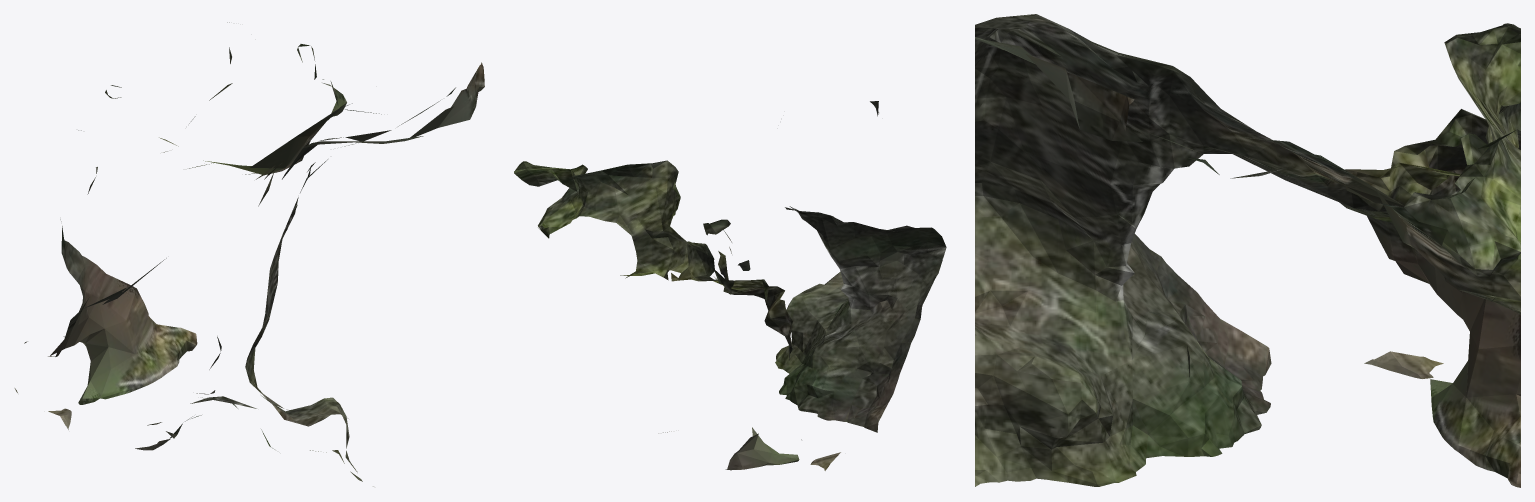
3 renders of one model, left to right at view 1: azimuth 30°, elevation 25°; view 2: azimuth 150°, elevation 25°; view 3: azimuth 270°, elevation 25°, orthographic. The views are drawn at different scales.
Size of the model in its own units: 5.9 by 5.9 by 5.9.
5 materials, 5 textured.
